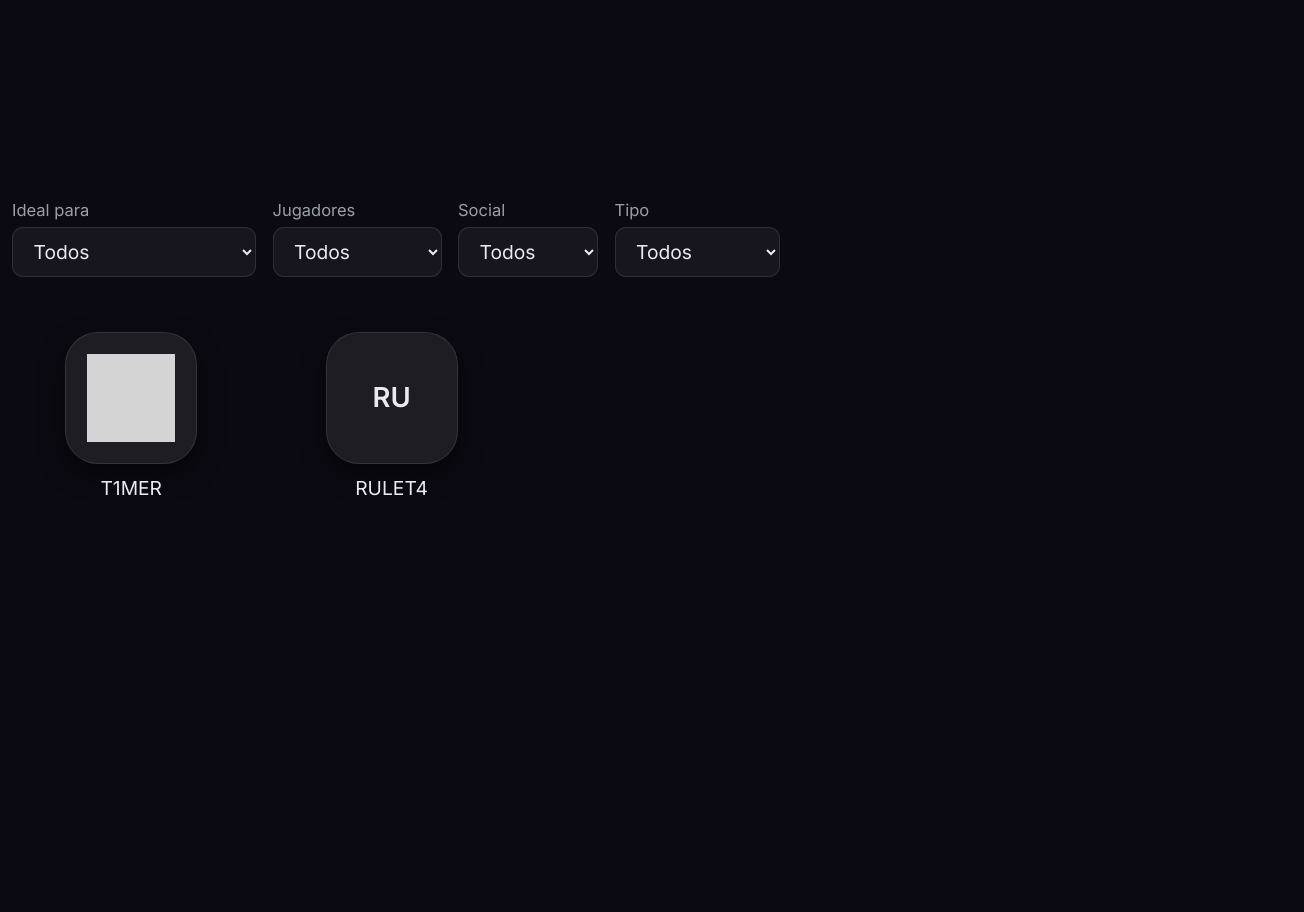
Test case: GameGate – catalog view › navigates to create/join view when a game is selected
Click the button "T1MER": (131, 417) [61,332,201,502]
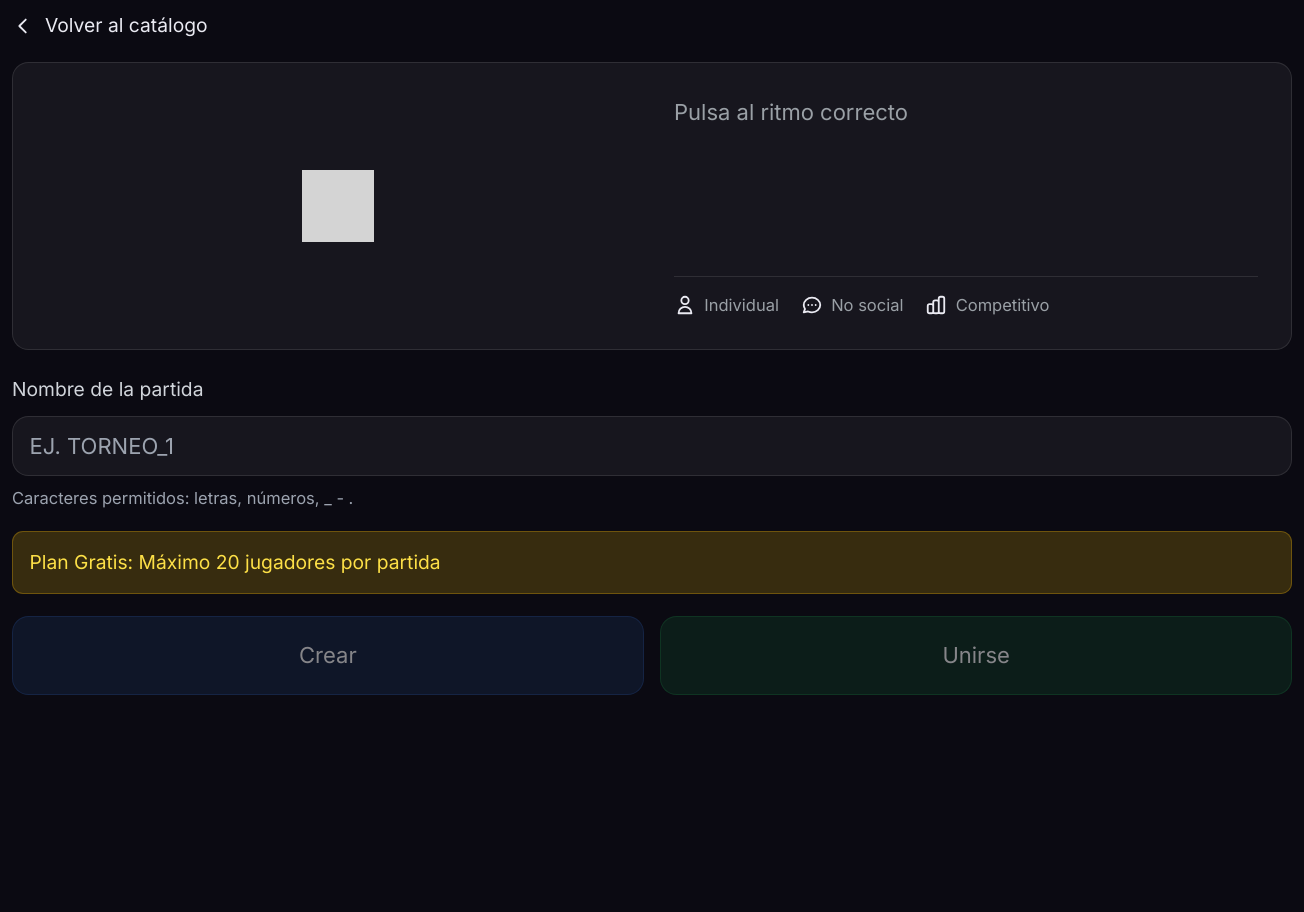
Expected: the button "Crear" is shown, [12,616,644,694]
Expected: the button "Unirse" is shown, [660,616,1292,694]
